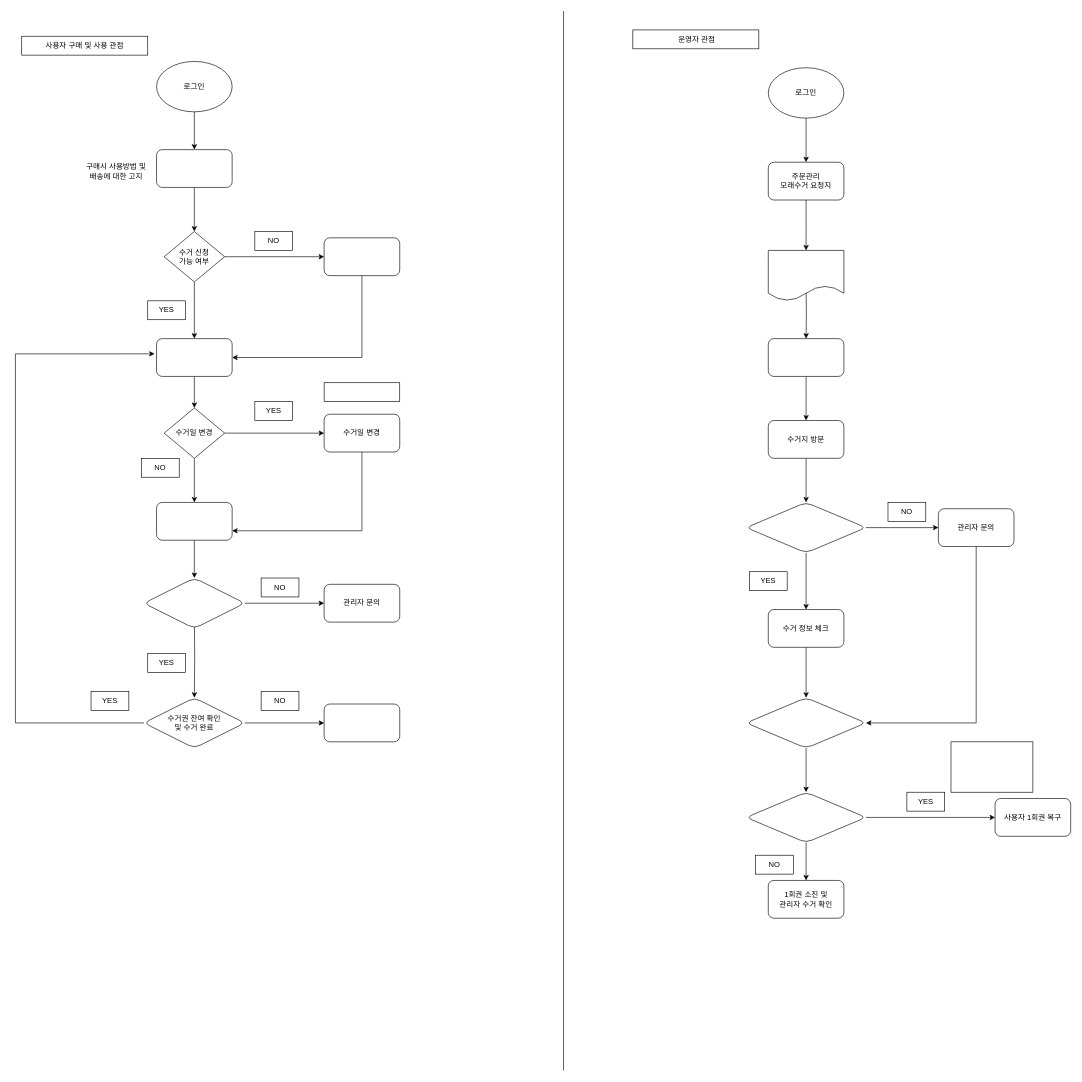
Some shapes in this 1082 by 1082 pixel diagram are drawn without their labels. The centre of each missing label's shape, as x and y in pixels:
"관리자 확인" belongs at pixel 806 722.
"배송 대기" belongs at pixel 362 256.
"복구 여부" belongs at pixel 806 817.
"사용자와 전화통화 후 사유 결정" belongs at pixel 991 766.
"수거 기사 전달" belongs at pixel 806 357.
"수거 신청 당일 00:00 까지 가능" belongs at pixel 362 392.
"수거 신청 완료" belongs at pixel 194 521.
"수거 여부" belongs at pixel 806 527.
"수거 여부 확인" belongs at pixel 194 602.
"수거일 지정신청" belongs at pixel 194 357.
"수거지 명단 확인" belongs at pixel 806 275.
"재결제 대기" belongs at pixel 362 722.
"횟수권 구매" belongs at pixel 194 168.
